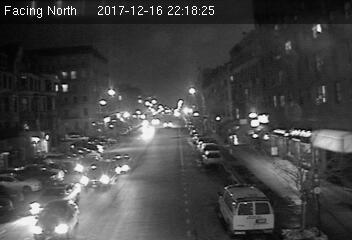car: (31, 200, 84, 239), (27, 182, 83, 214), (80, 162, 118, 190), (113, 154, 134, 175), (204, 150, 222, 165)
police: (213, 181, 278, 236)
